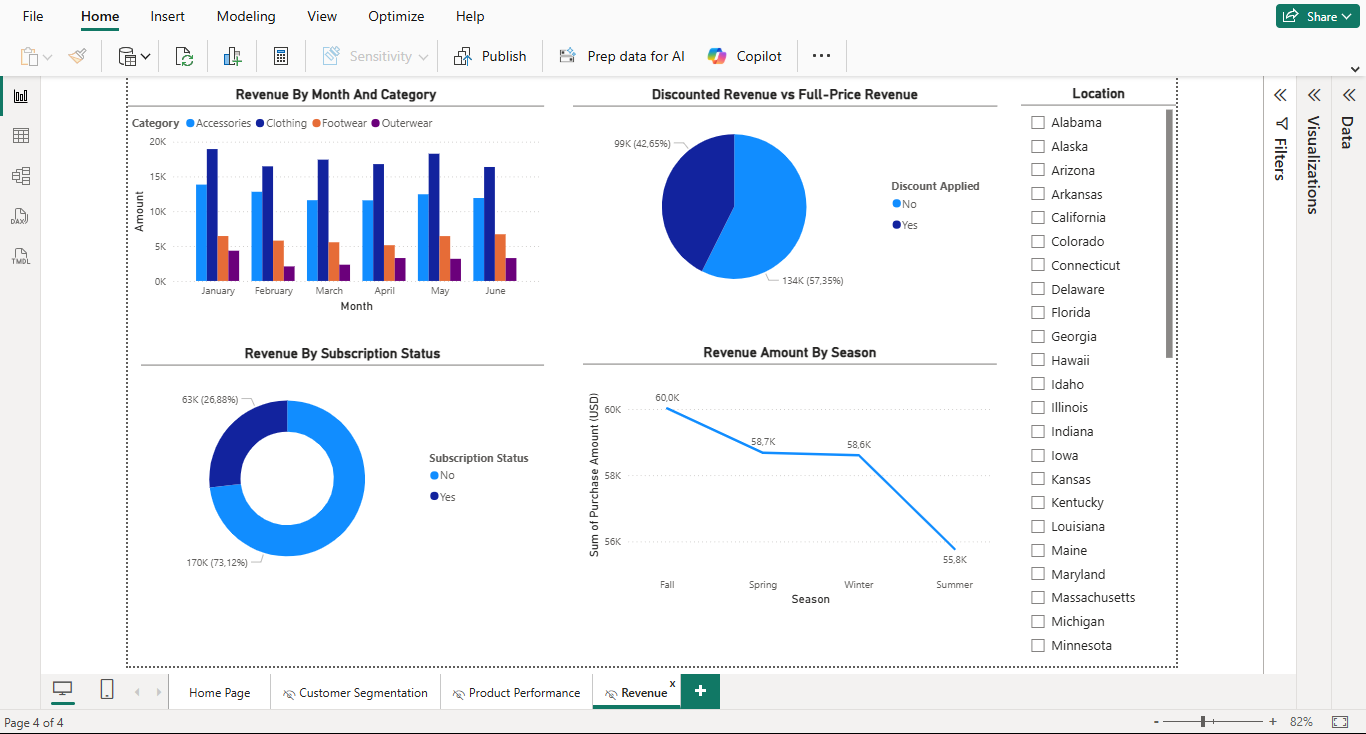

Layout of this report page (visuals, bound fields, positions):
{"tool":"powerbi","page":{"name":"Revenue","canvas":[1280,720],"ordinal":3},"visuals":[{"type":"clusteredColumnChart","title":"Revenue By Month And Category","fields":{"Category":["shopping_trends_with_processdate.processdate.Variation.Date Hierarchy.Month"],"Y":["Sum(shopping_trends_with_processdate.Purchase Amount (USD))"],"Series":["shopping_trends_with_processdate.Category"]},"box":[0,12.4,507.7,280.2],"z":0},{"type":"pieChart","title":"Discounted Revenue vs Full-Price Revenue","fields":{"Category":["shopping_trends_with_processdate.Discount Applied"],"Y":["Sum(shopping_trends_with_processdate.Purchase Amount (USD))"]},"box":[543.7,12.4,517.5,268.4],"z":0,"group":"g1"},{"type":"lineChart","title":"Revenue Amount By Season","fields":{"Category":["shopping_trends_with_processdate.Season"],"Y":["Sum(shopping_trends_with_processdate.Purchase Amount (USD))"]},"box":[556.1,327.6,505.1,323.4],"z":1000,"group":"g1"},{"type":"donutChart","title":"Revenue By Subscription Status","fields":{"Category":["shopping_trends_with_processdate.Subscription Status"],"Y":["Sum(shopping_trends_with_processdate.Purchase Amount (USD))"]},"box":[16.1,327.9,491.8,299.7],"z":1000},{"type":"group","id":"g1","title":"Group 2","box":[543.7,12.4,517.5,638.6],"z":2000},{"type":"slicer","title":"Location","fields":{"Values":["shopping_trends_with_processdate.Location"]},"box":[1090.1,11,189.9,697.8],"z":3000}]}

Visuals, with their boxes on the page's 1280x720 design canvas (x1, y1, x2, y2). These are canvas units, not pixel positions in the 1366x734 screenshot, which may show the page scaled, cropped or inside an application window:
"Revenue By Month And Category" clusteredColumnChart: 0,12,508,293
"Discounted Revenue vs Full-Price Revenue" pieChart: 544,12,1061,281
"Revenue Amount By Season" lineChart: 556,328,1061,651
"Revenue By Subscription Status" donutChart: 16,328,508,628
"Group 2" group: 544,12,1061,651
"Location" slicer: 1090,11,1280,709
